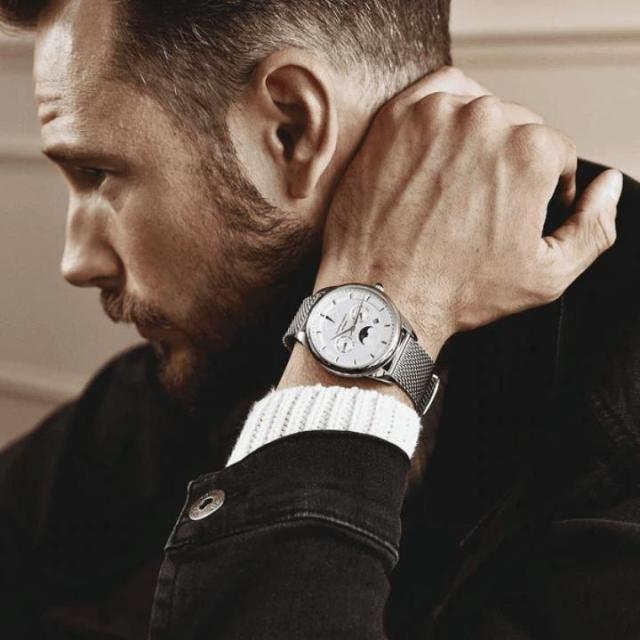Watch: (226, 205, 488, 484)
